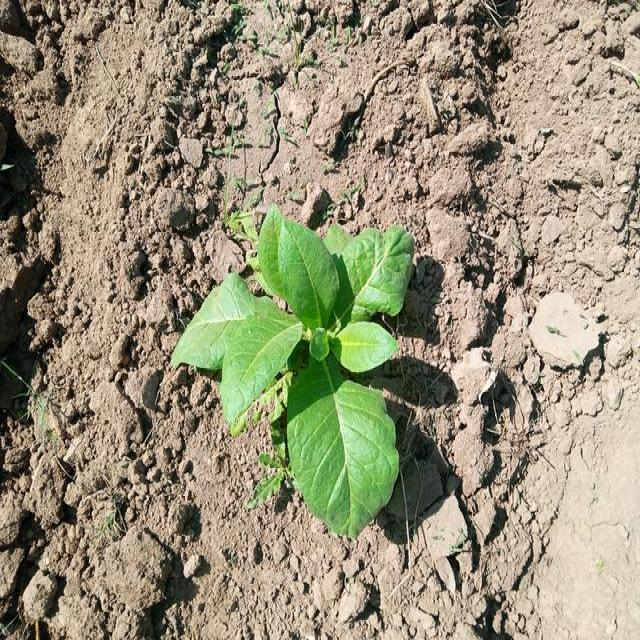crop: (195, 218, 412, 530)
